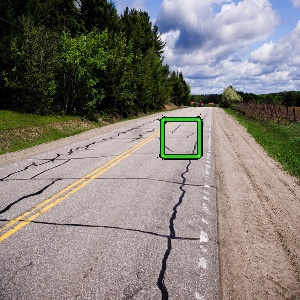square: (158, 115, 204, 161)
